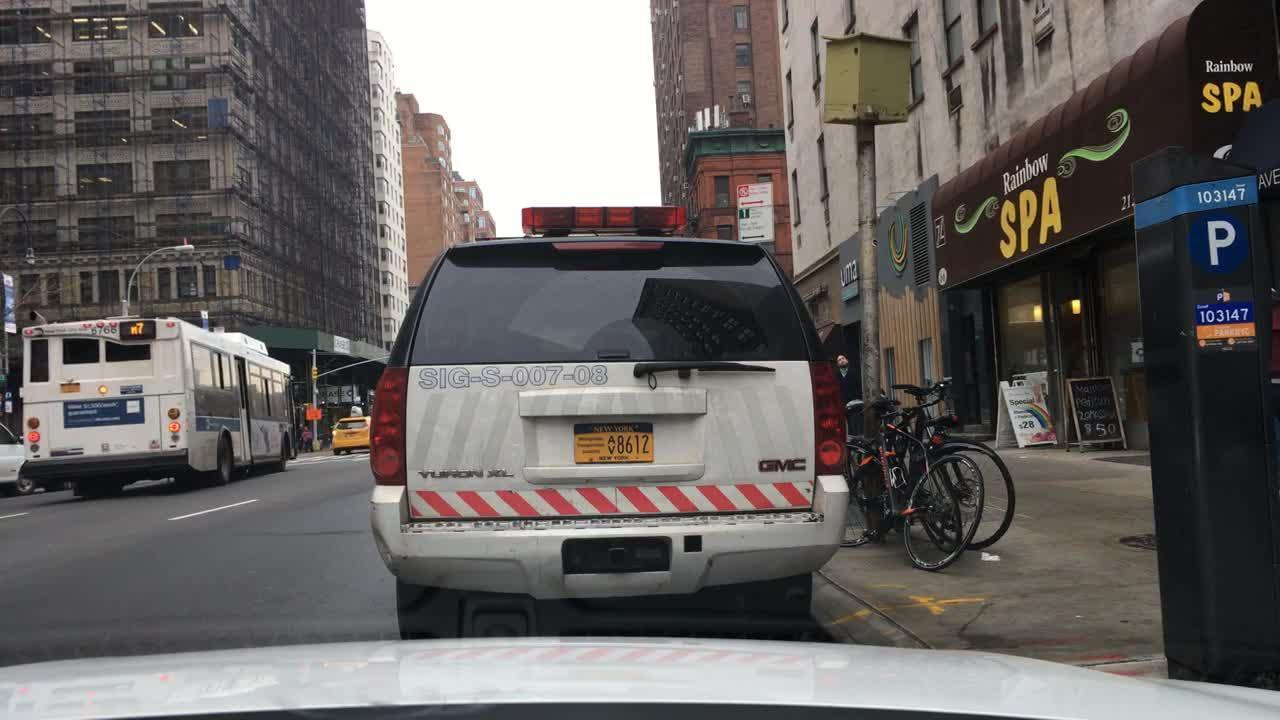GMC: (747, 451, 810, 482)
